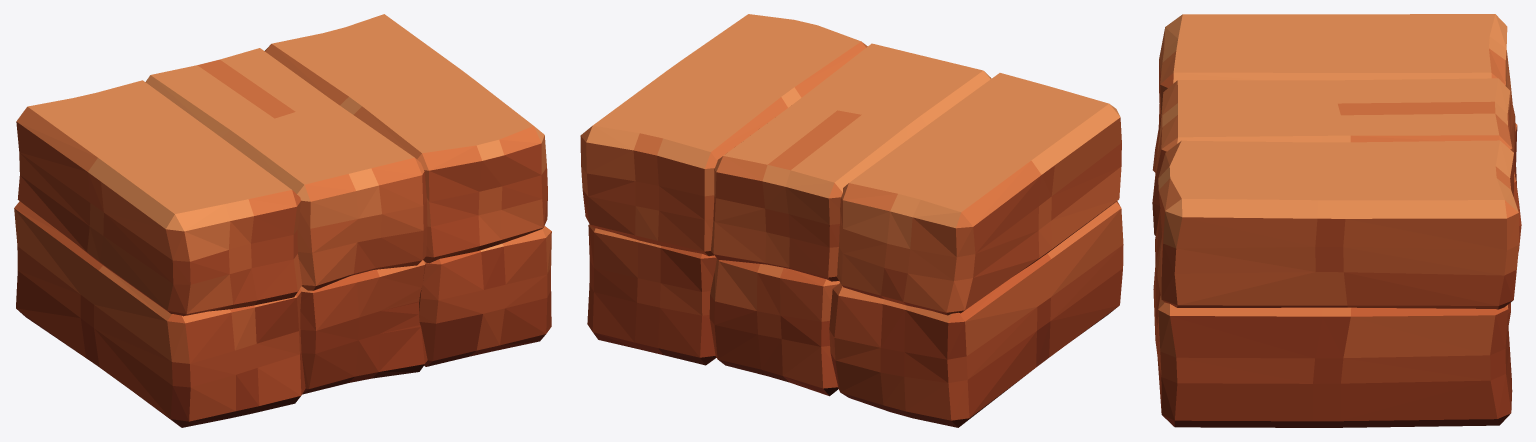
Rendered from SM_ROCK_BLOCK_06.fbx.
The picture shows the model from 3 angles, left to right: view 1: azimuth 30°, elevation 25°; view 2: azimuth 150°, elevation 25°; view 3: azimuth 270°, elevation 25°; orthographic projection. The views are drawn at different scales.
Parts seen in each view (by area): view 1: ROCK_BLOCK_06; view 2: ROCK_BLOCK_06; view 3: ROCK_BLOCK_06.
Part boxes in pixels (bbox=[...]): ROCK_BLOCK_06: bbox=[14, 14, 551, 427]; ROCK_BLOCK_06: bbox=[580, 14, 1123, 427]; ROCK_BLOCK_06: bbox=[1152, 14, 1521, 427].
Bounding box in the file's own units: 1.7 × 1.32 × 0.8975.
